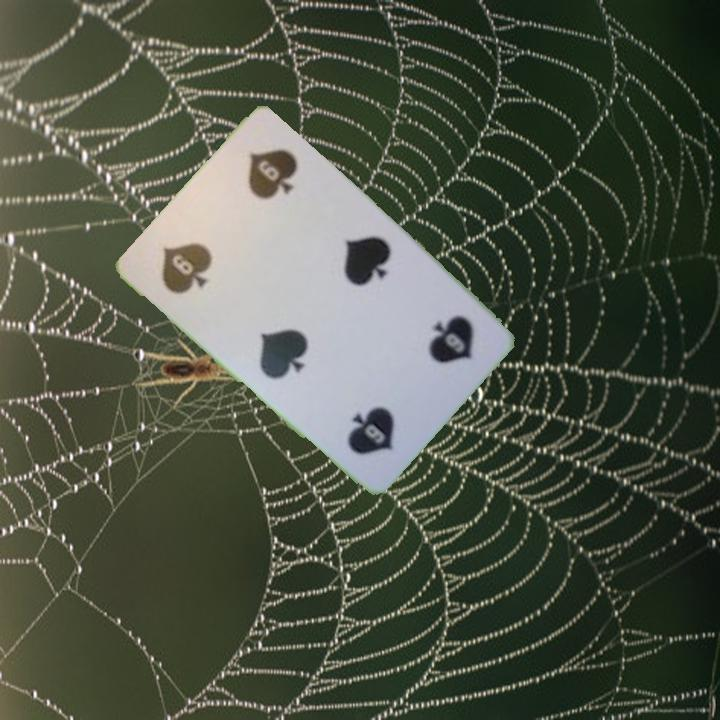s_6.png: (373, 280, 501, 410), (134, 193, 262, 323)
